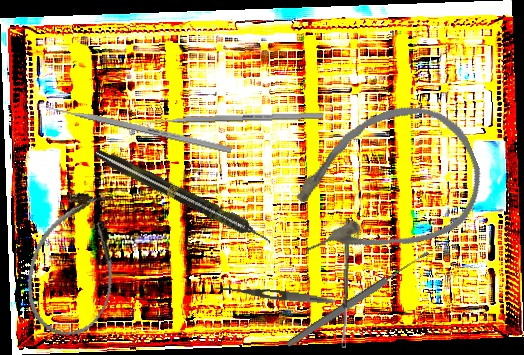Cannula: (268, 86, 498, 285), (15, 184, 133, 344)
Dressing Forceps: (213, 283, 336, 307)
Handpiece: (92, 144, 275, 250)
Pusher: (35, 101, 233, 154), (134, 111, 324, 126)
Surgical Spoon: (284, 249, 432, 349), (340, 218, 351, 349)
